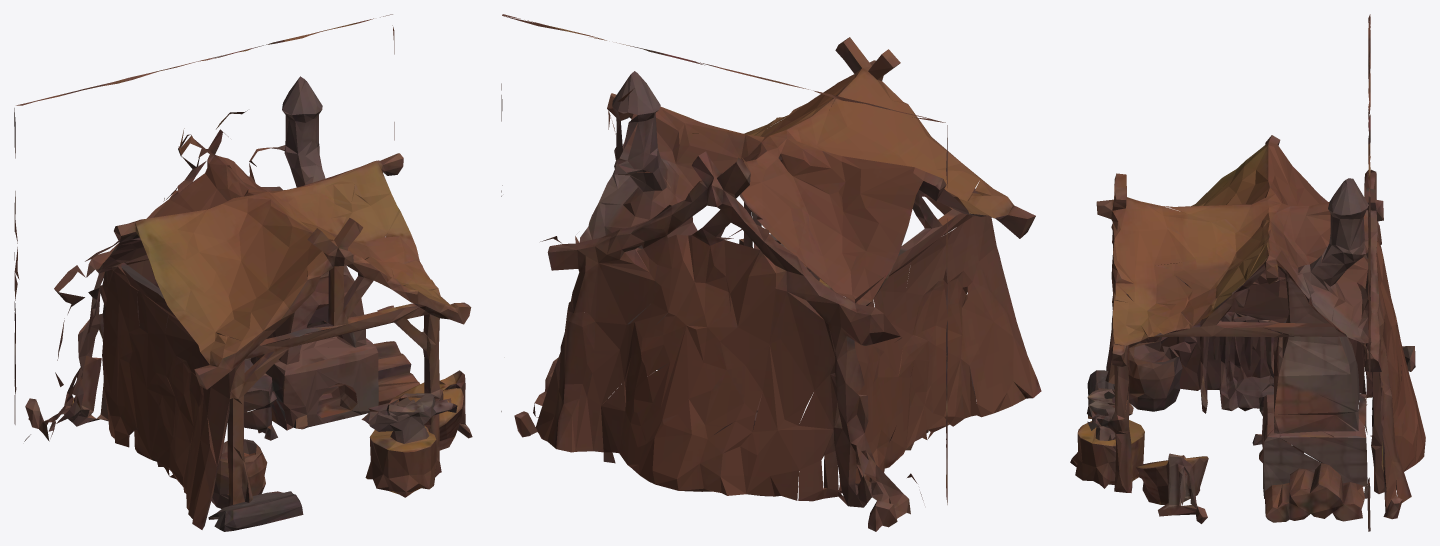
Rendered from forge.glb.
3 views of the same model, side by side, from view 1: azimuth 30°, elevation 25°; view 2: azimuth 150°, elevation 25°; view 3: azimuth 270°, elevation 25° (orthographic). The views are drawn at different scales.
Parts seen in each view (by area): view 1: geometry_0; view 2: geometry_0; view 3: geometry_0.
Boxes of the visible parts, x1,y1,x2,y2 form: geometry_0: (14, 14, 472, 531); geometry_0: (501, 14, 1041, 531); geometry_0: (1070, 14, 1425, 531).
Size of the model in its own units: 3.8 by 3.35 by 3.13.
Materials: 1 (1 with a texture image).
